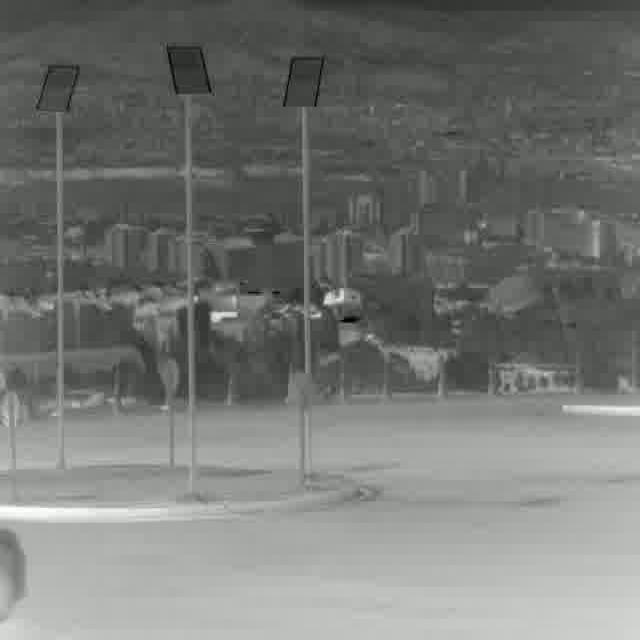Car: (0, 527, 28, 625)
